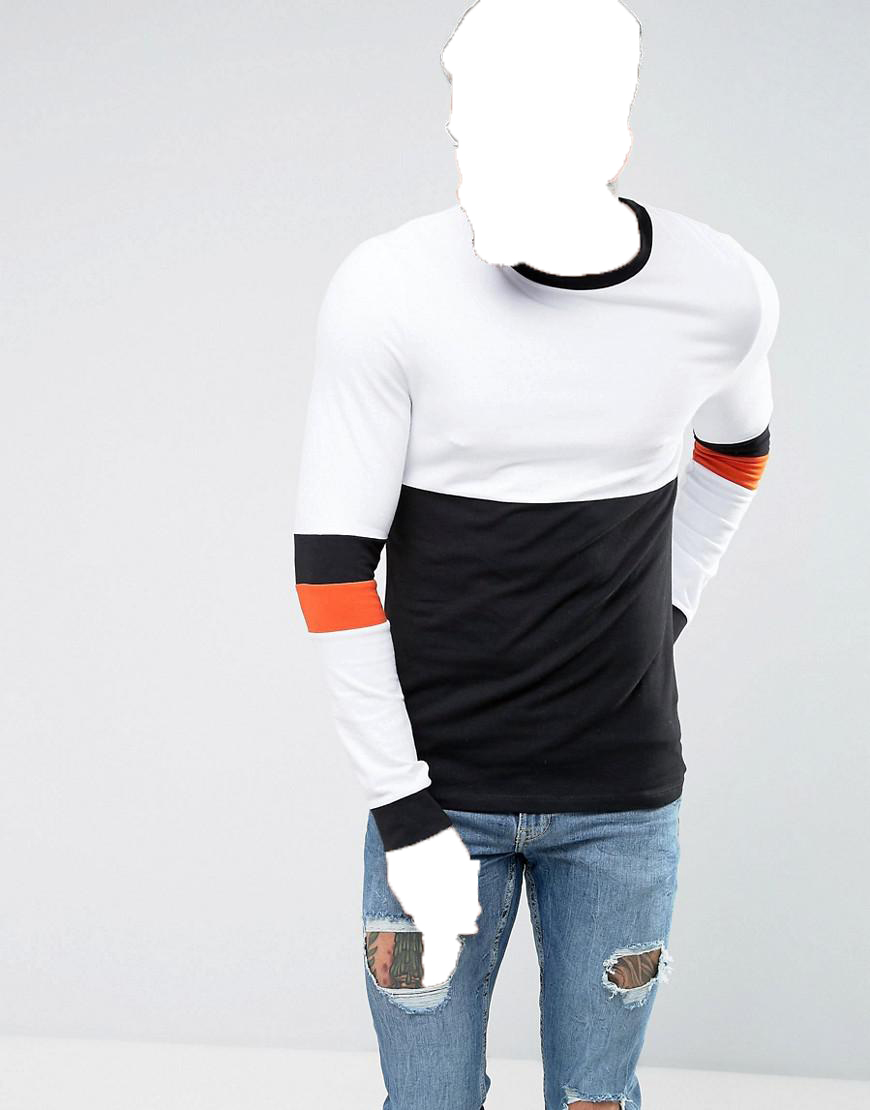teeshirt: (283, 195, 786, 830)
